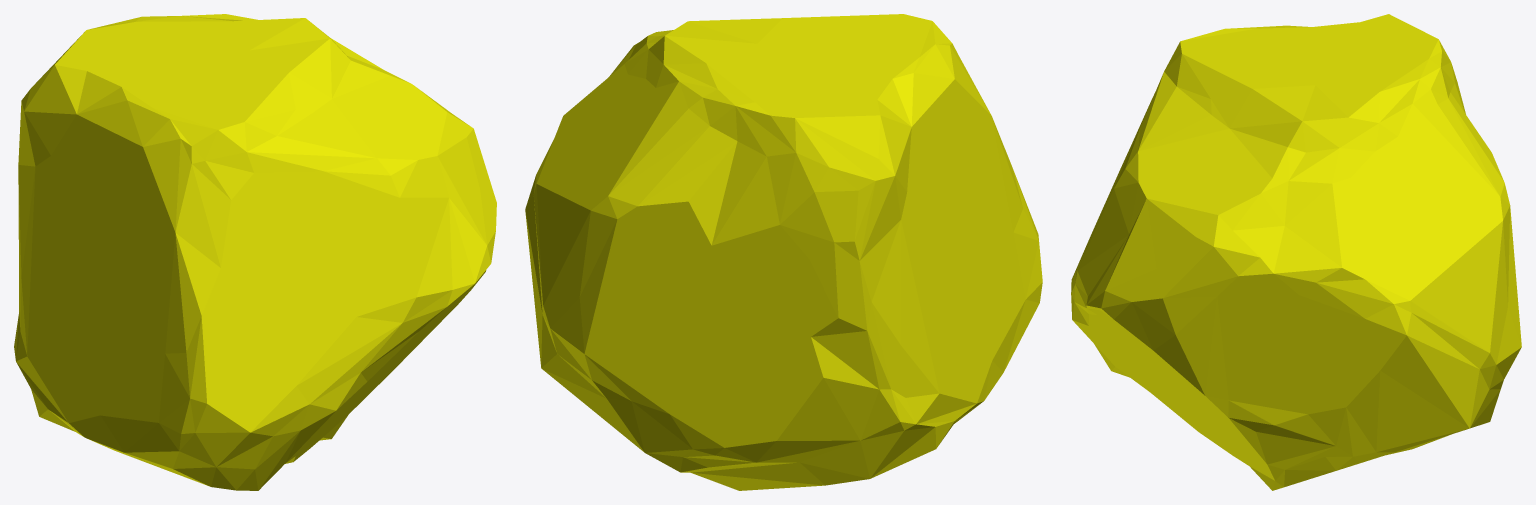
File: trp_rock1.glb
3 renders of one model, left to right at view 1: azimuth 30°, elevation 25°; view 2: azimuth 150°, elevation 25°; view 3: azimuth 270°, elevation 25°, orthographic. The views are drawn at different scales.
Parts seen in each view (by area): view 1: SM_Env_Rock_04; view 2: SM_Env_Rock_04; view 3: SM_Env_Rock_04.
Boxes of the visible parts, bbox=[...] form: SM_Env_Rock_04: bbox=[14, 14, 496, 490]; SM_Env_Rock_04: bbox=[525, 14, 1042, 490]; SM_Env_Rock_04: bbox=[1071, 14, 1521, 490].
Bounding box in the file's own units: 3.29 × 3.27 × 3.48.
Materials: 1 (1 with a texture image).
